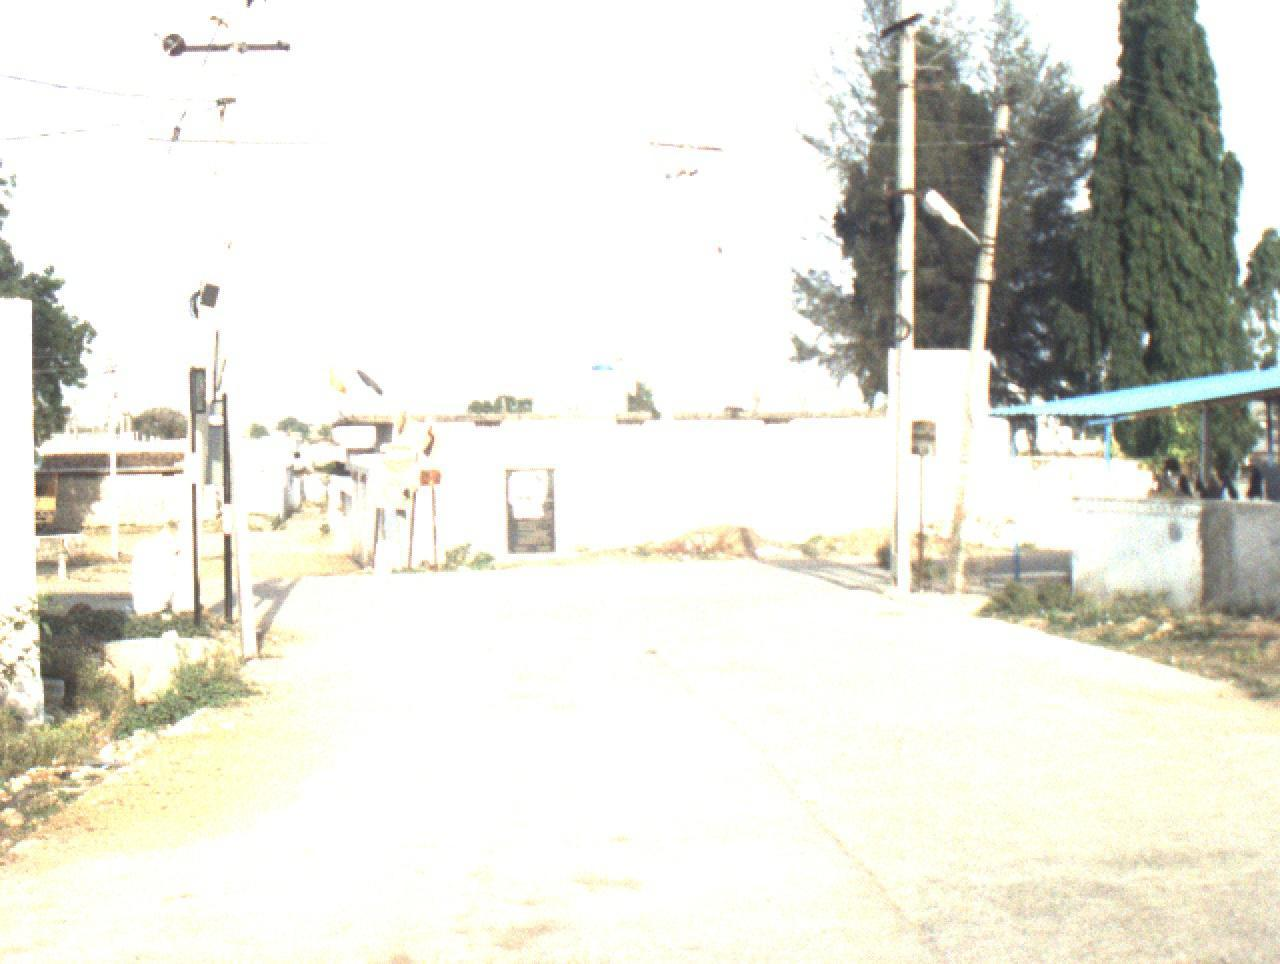off: (0, 0, 1207, 937)
